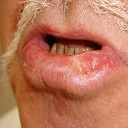Actinic: (73, 53, 113, 71)
